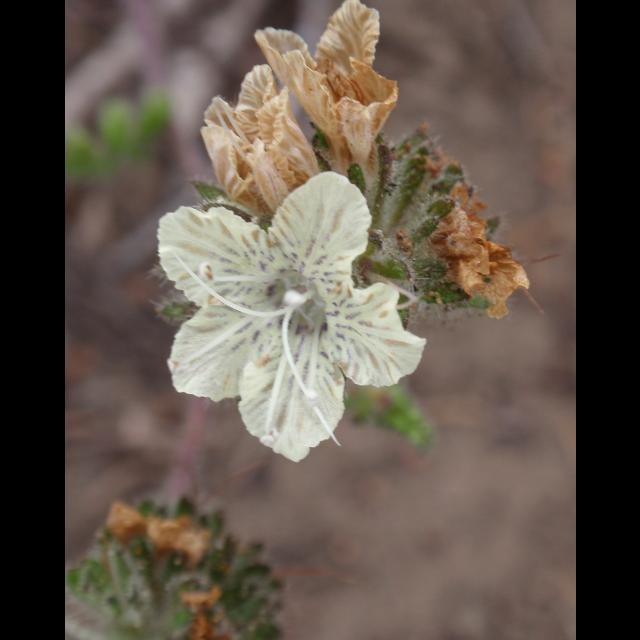Flower: (156, 170, 426, 464), (250, 0, 412, 168), (195, 60, 317, 216), (434, 188, 532, 324), (152, 512, 212, 570), (174, 580, 226, 640), (105, 497, 152, 549)
